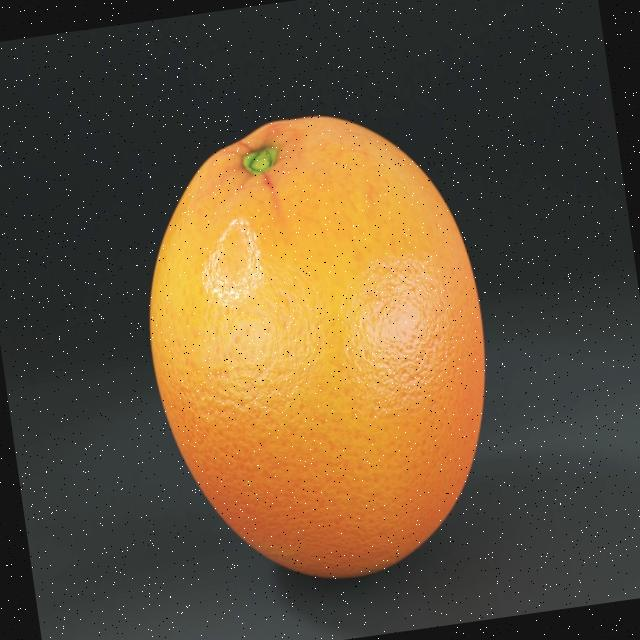orange: (119, 96, 525, 620)
